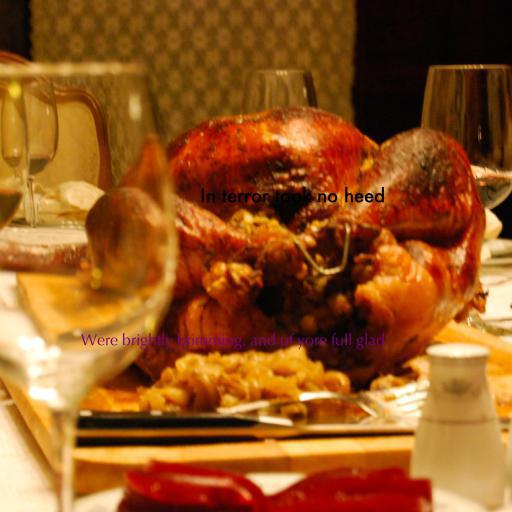Futura: (199, 186, 385, 203)
Optima: (81, 333, 385, 350)
